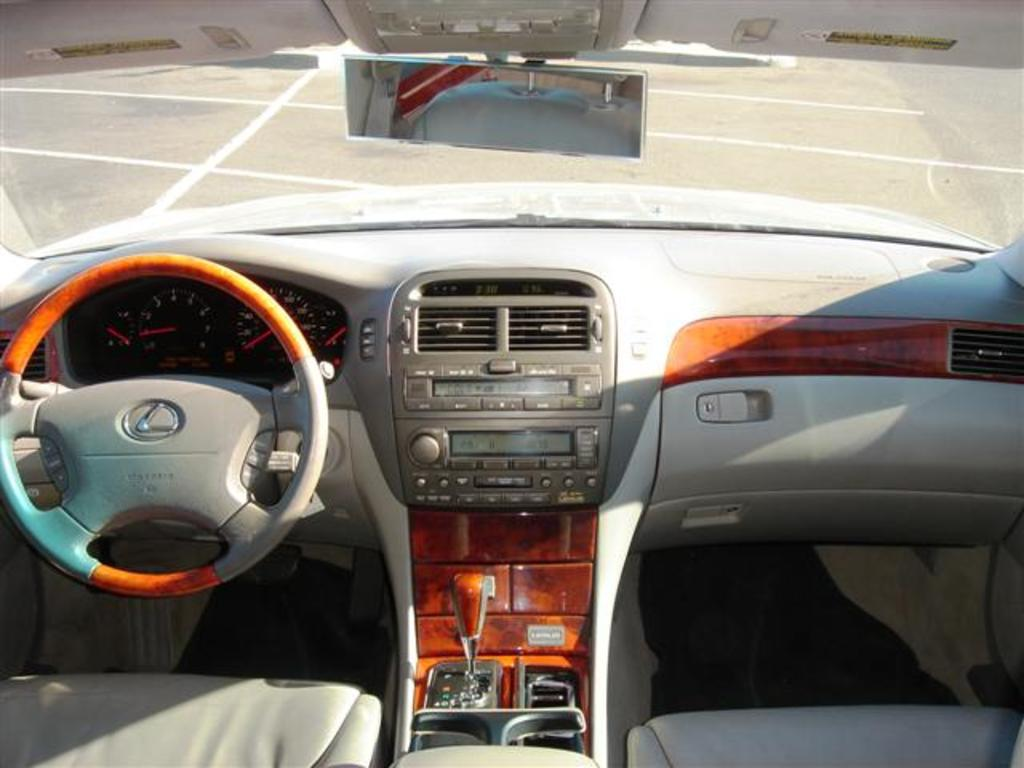cars: (25, 126, 1009, 749)
